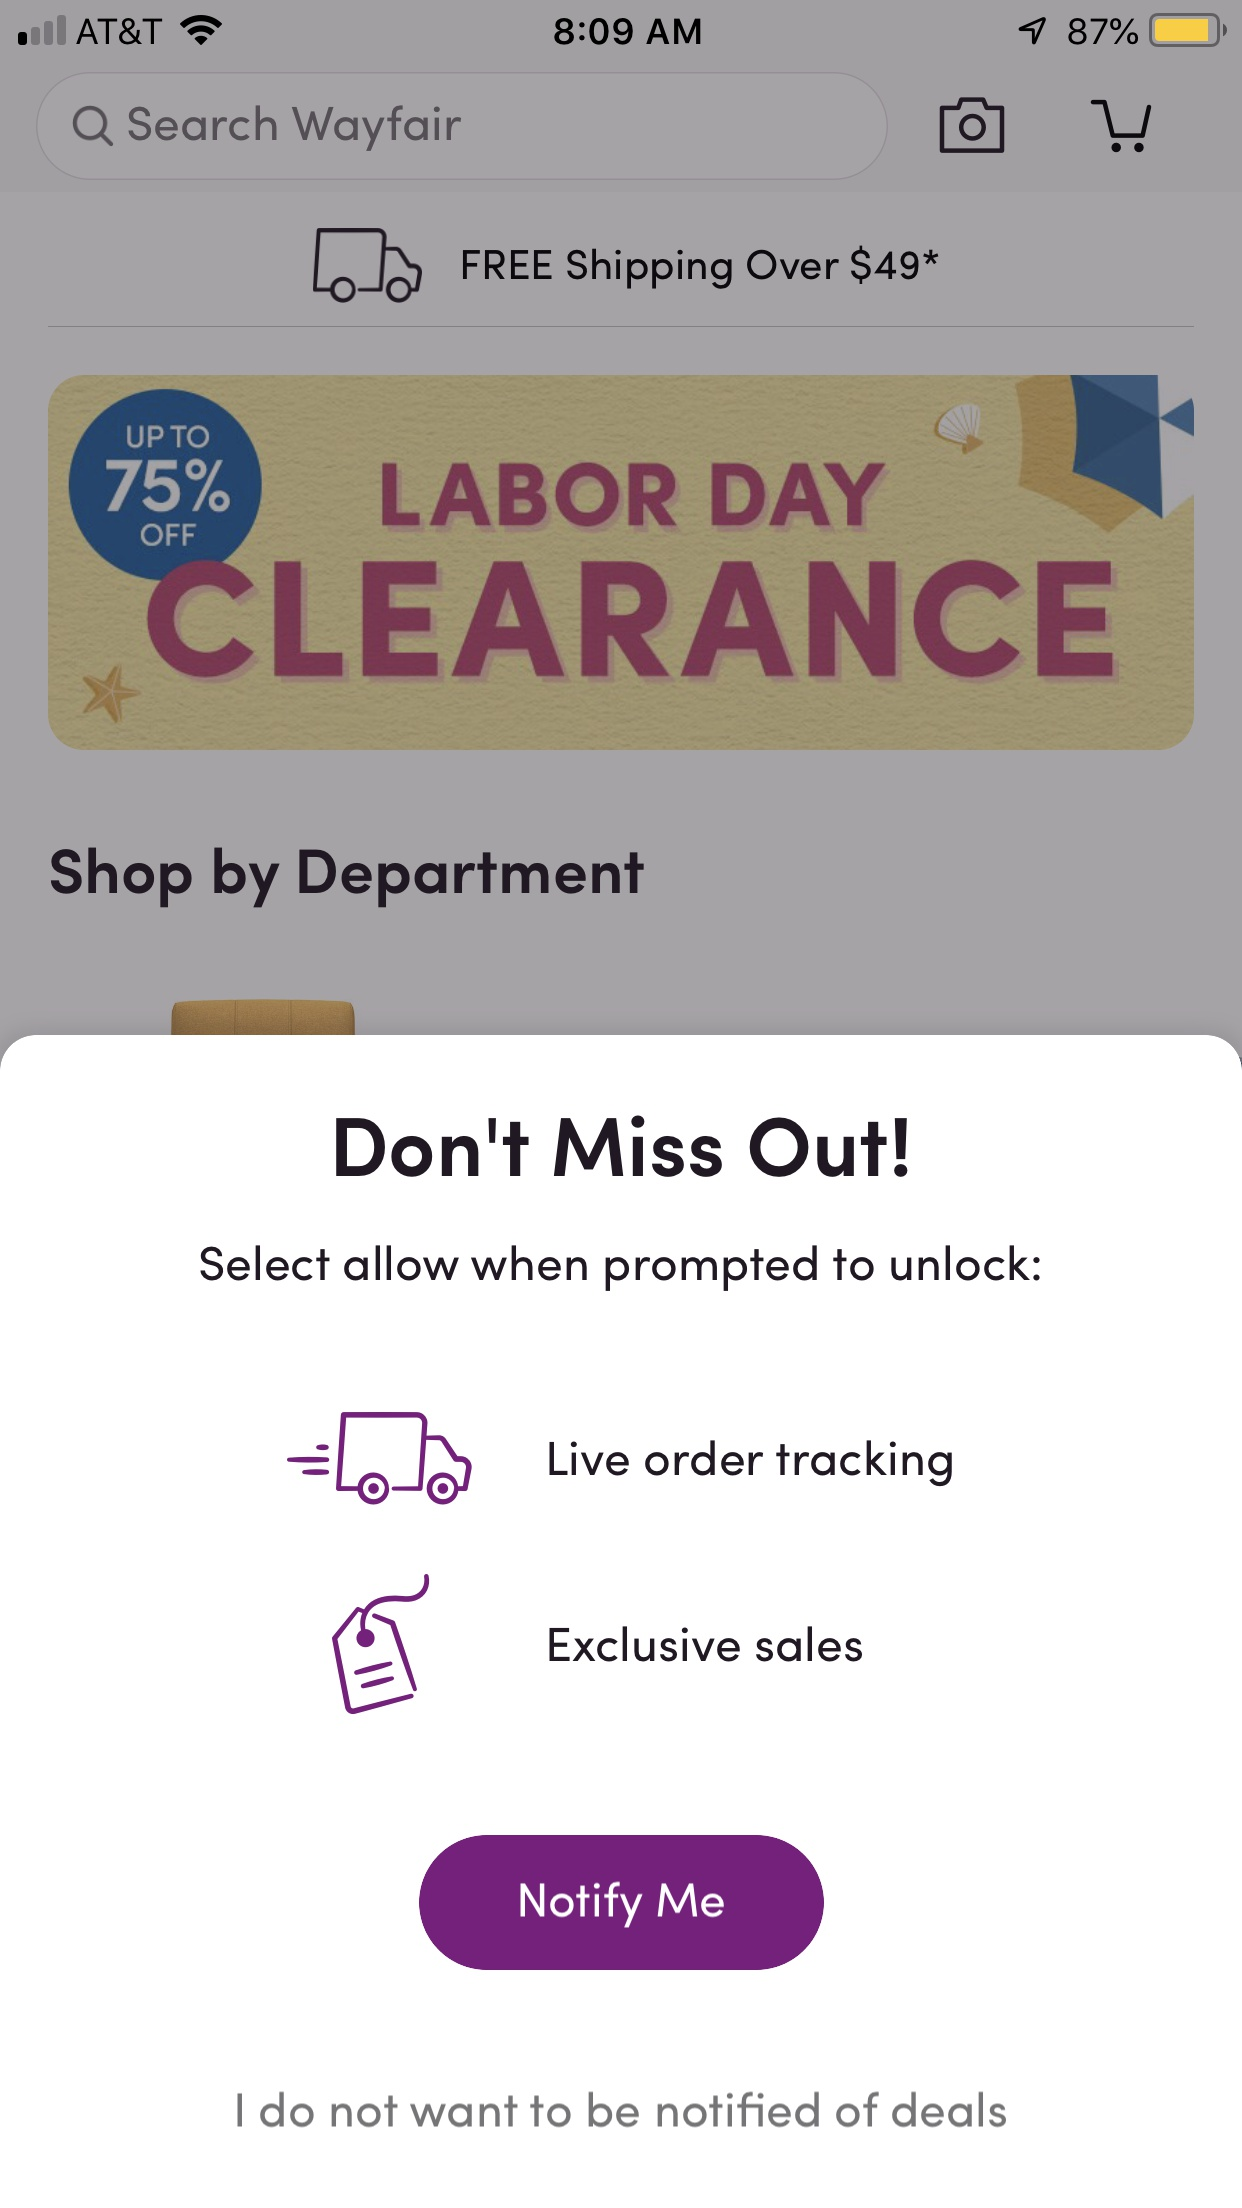Icon: (331, 1573, 431, 1717)
Image: (287, 1410, 475, 1506)
Modal: (2, 1034, 1242, 2208)
Text: (200, 1244, 1040, 1292), (337, 1115, 908, 1178), (237, 2090, 1007, 2129), (549, 1439, 954, 1488), (549, 1626, 864, 1664)
TextButton: (419, 1833, 825, 1971)
UpperTaskBar: (2, 2, 1242, 49)
